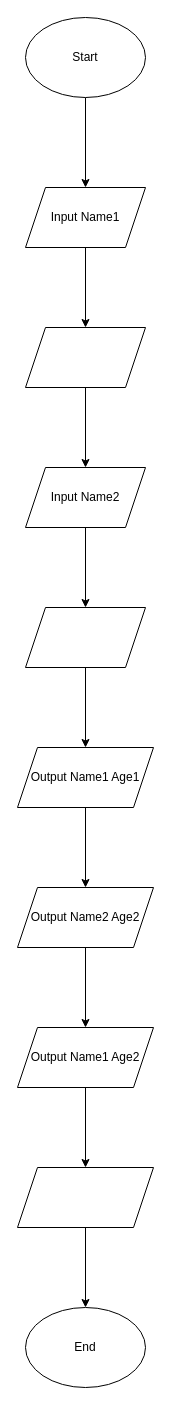
This 171x1405 diagram has some shape labels left out. Here are the shapes that lost their labels. From the top down, the centre of each, then its label:
(x=85, y=357): Iput Age1
(x=85, y=637): Input Age2
(x=85, y=1197): Output Name2 Age1
